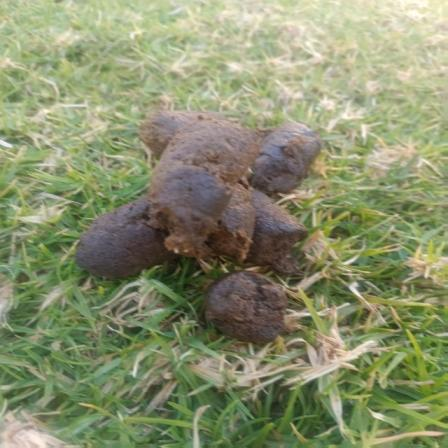dog-poop: (96, 96, 321, 328)
